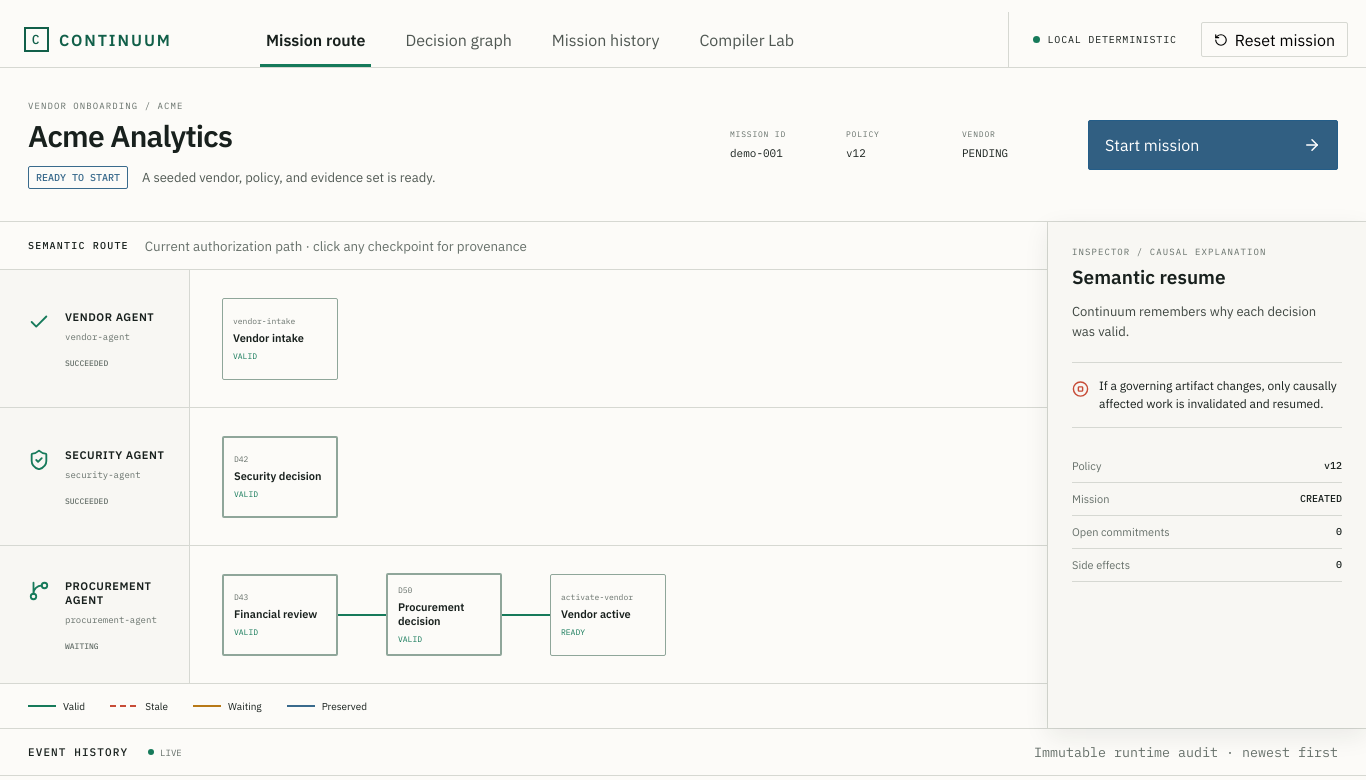
App › operates the canonical story through completion
Click the button "Start mission" at (1213, 144), box [1088,120,1338,170]
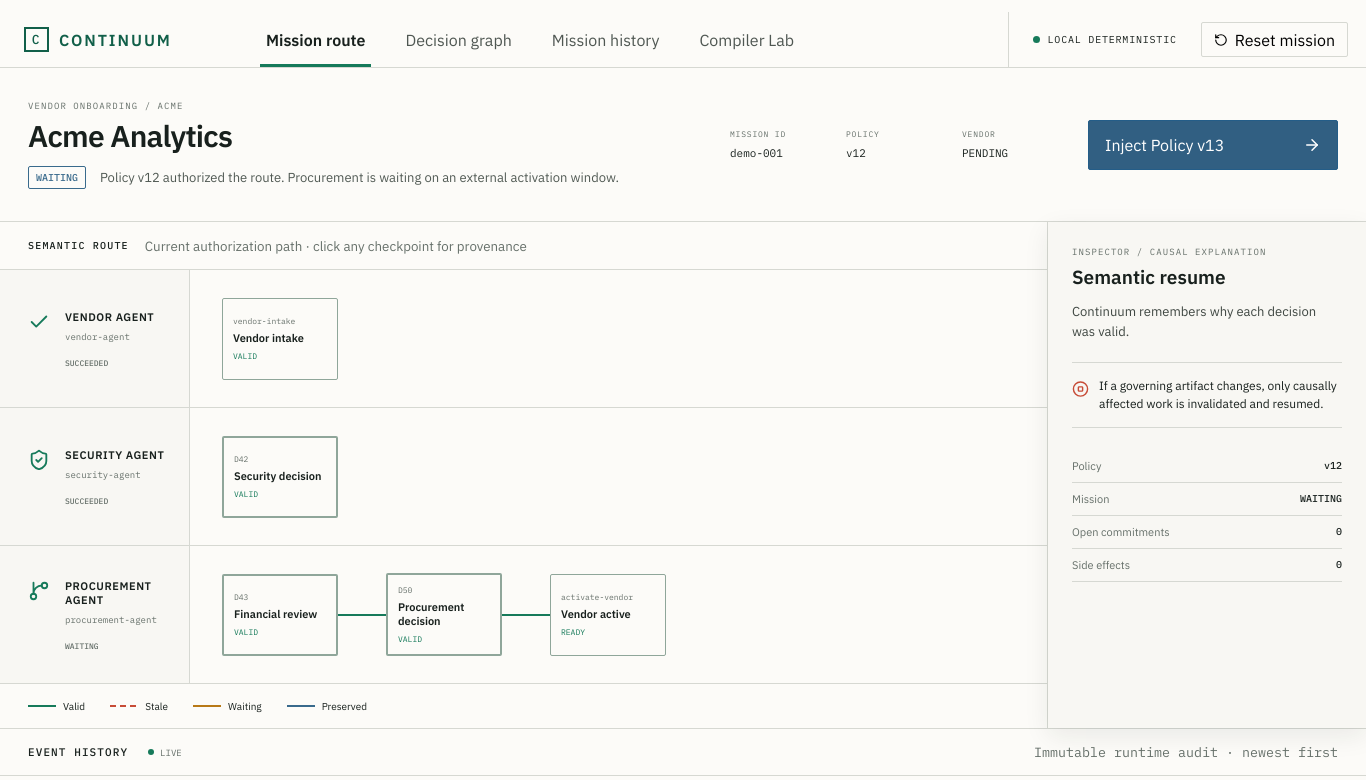
Expected: the text "Pen test required" is not shown
Expected: the button "Inject Policy v13" is shown
Click the button "Inject Policy v13" at (1213, 144), box [1088,120,1338,170]
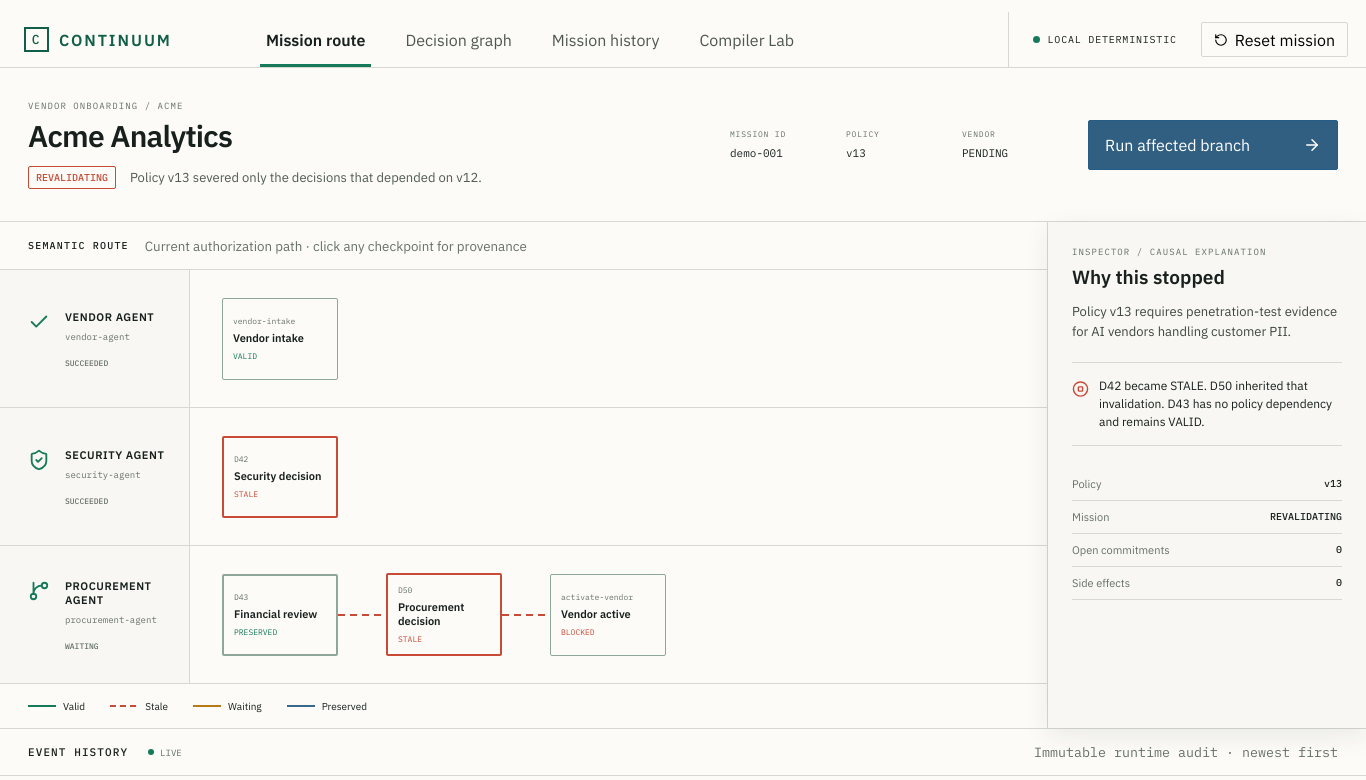
Expected: the button with test id "route-D42" shows "STALE", [222,436,338,518]
Expected: the button with test id "route-D50" shows "STALE", [386,573,502,656]
Expected: the button with test id "route-D43" shows "PRESERVED", [222,574,338,656]
Click the button "Run affected branch" at (1213, 144), box [1088,120,1338,170]
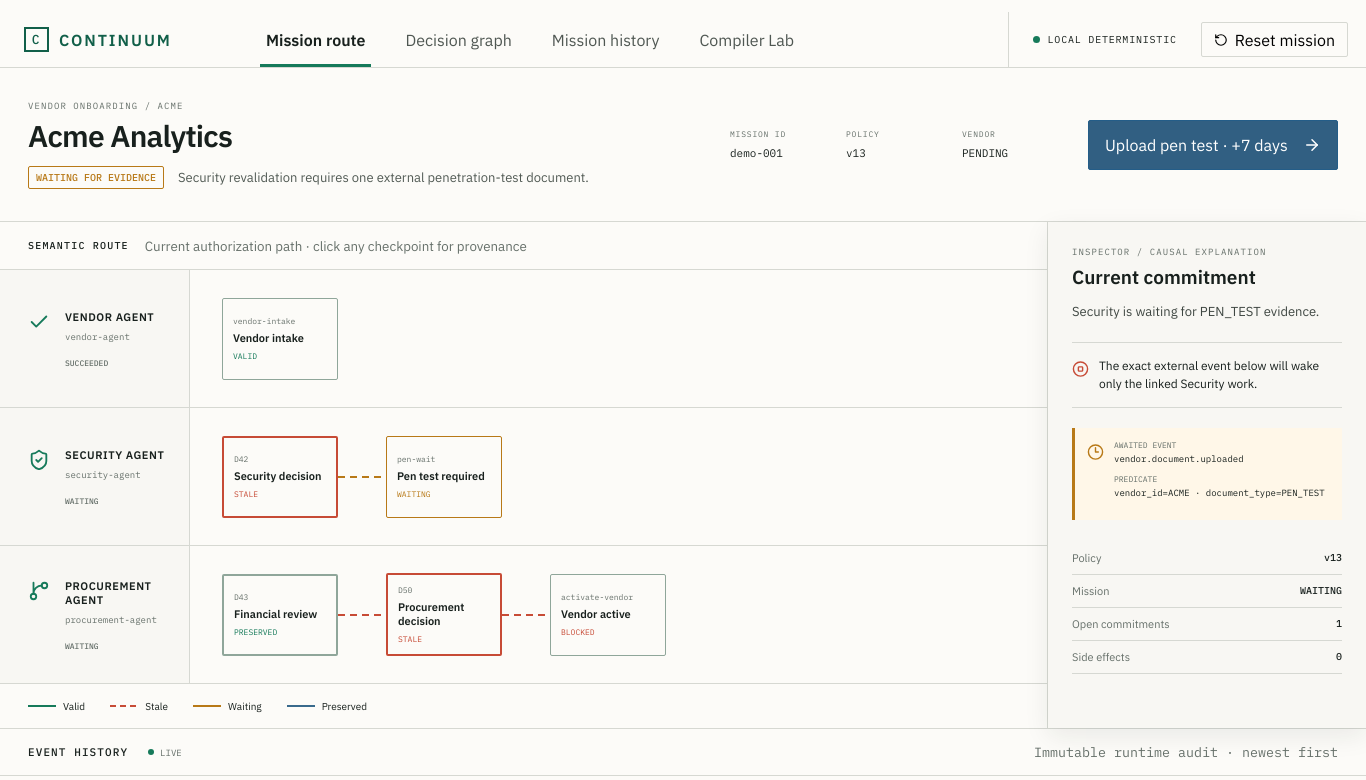
Expected: the text "Pen test required" is shown, [397,470,485,483]
Expected: the text "vendor.document.uploaded" is shown, [1114,453,1244,464]
Click the button "Upload pen test · +7 days" at (1213, 144), box [1088,120,1338,170]
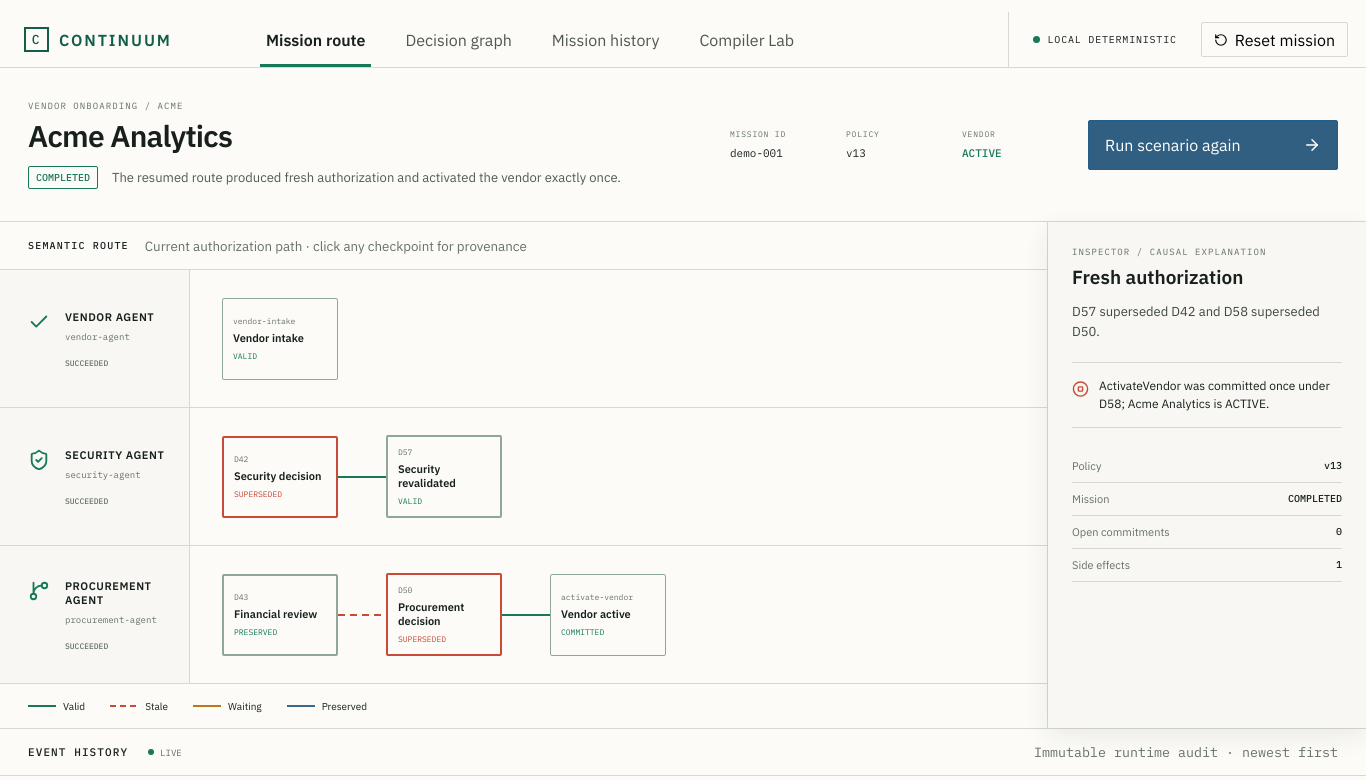
Expected: the button "Run scenario again" is shown, [1088,120,1338,170]
Expected: the button with test id "route-D57" shows "valid", [386,435,502,518]
Expected: the button with test id "route-activate-vendor" shows "COMMITTED", [550,574,666,656]
